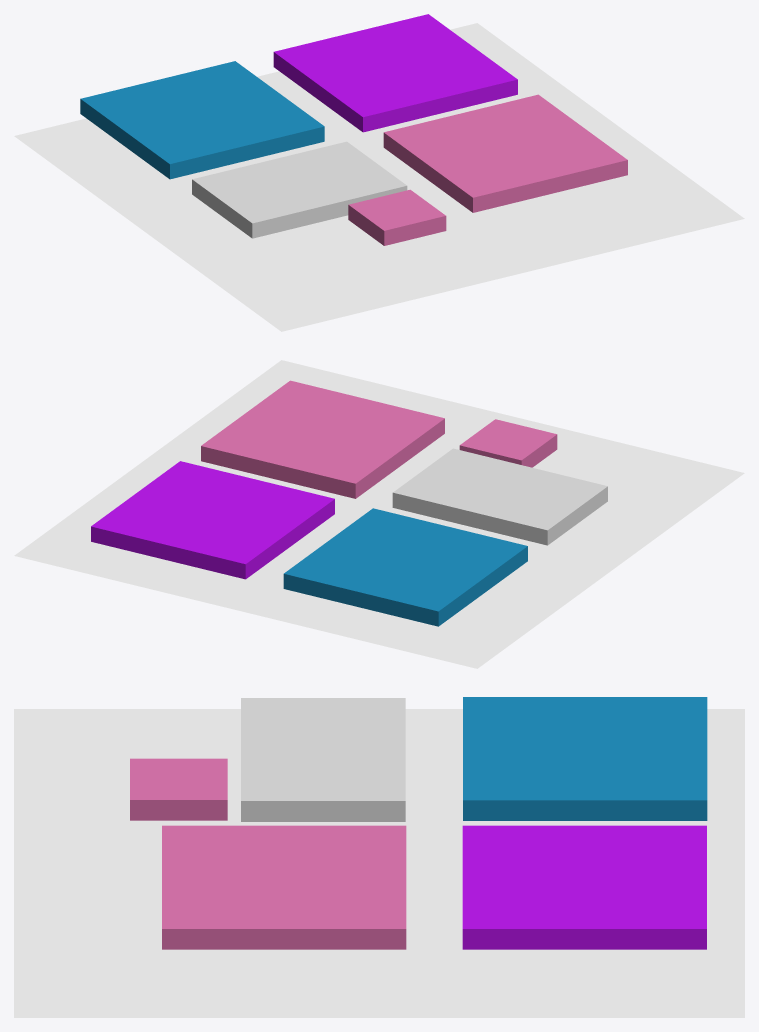
The model's file is 居民地-面状.fbx.
3 views of the same model, one above another, from view 1: azimuth 30°, elevation 25°; view 2: azimuth 150°, elevation 25°; view 3: azimuth 270°, elevation 25° (orthographic). The views are drawn at different scales.
Visible parts, largest first — view 1: 居民地_面状, Cube, Cube__2_, Cube__1_, Cube_1, Cube_2; view 2: 居民地_面状, Cube__1_, Cube__2_, Cube, Cube_1, Cube_2; view 3: 居民地_面状, Cube, Cube__2_, Cube__1_, Cube_1, Cube_2.
Part boxes in pixels (<box>): 居民地_面状: <box>14,23,744,331</box>; Cube: <box>383,94,627,212</box>; Cube__2_: <box>273,14,517,132</box>; Cube__1_: <box>80,61,324,179</box>; Cube_1: <box>192,141,407,238</box>; Cube_2: <box>348,189,446,245</box>; 居民地_面状: <box>14,360,744,668</box>; Cube__1_: <box>283,508,527,626</box>; Cube__2_: <box>91,461,334,579</box>; Cube: <box>201,380,444,498</box>; Cube_1: <box>392,448,607,545</box>; Cube_2: <box>459,419,557,467</box>; 居民地_面状: <box>14,709,744,1017</box>; Cube: <box>162,825,406,949</box>; Cube__2_: <box>462,825,706,949</box>; Cube__1_: <box>463,697,707,820</box>; Cube_1: <box>241,698,405,821</box>; Cube_2: <box>130,758,227,820</box>.
Size of the model in its own units: 299 by 21.29 by 299.
